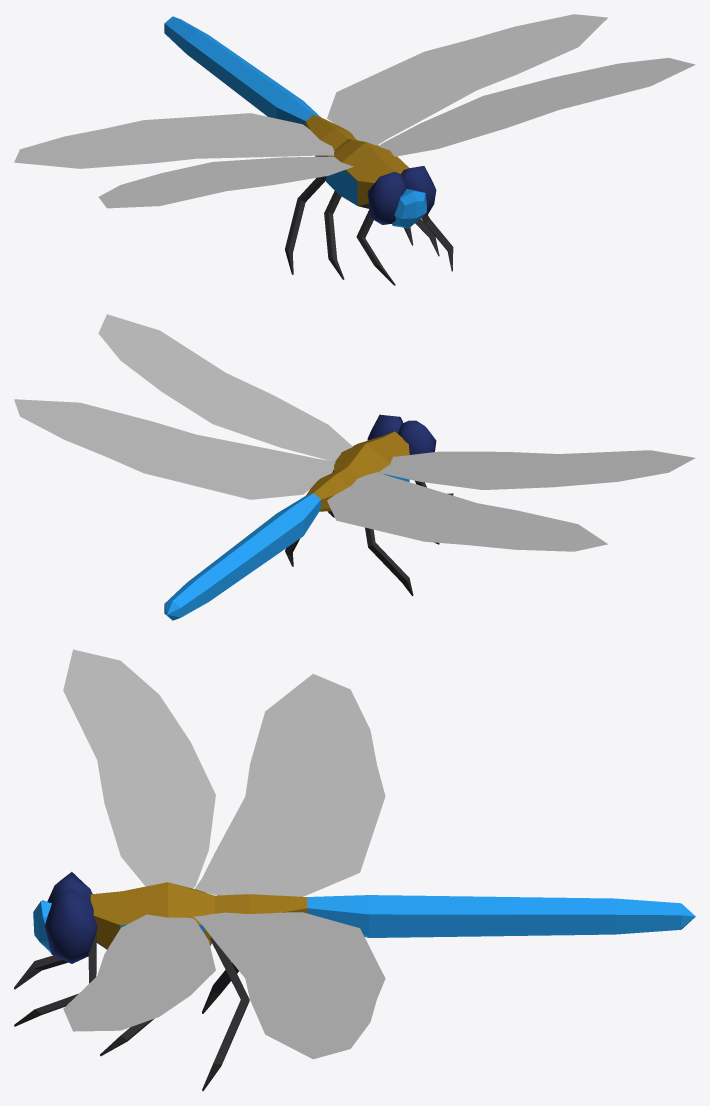
The model's file is 0myA_BOcZrD.glb.
3 views of the same model, one above another, from view 1: azimuth 30°, elevation 25°; view 2: azimuth 150°, elevation 25°; view 3: azimuth 270°, elevation 25° (orthographic). The views are drawn at different scales.
Parts seen in each view (by area): view 1: Geo_Dragonfly; view 2: Geo_Dragonfly; view 3: Geo_Dragonfly.
Boxes of the visible parts, x1,y1,x2,y2 form: Geo_Dragonfly: (14,14,695,285); Geo_Dragonfly: (14,314,695,620); Geo_Dragonfly: (14,649,695,1091).
Bounding box in the file's own units: 3.89 × 0.9999 × 2.91.
2 materials, 1 textured.
